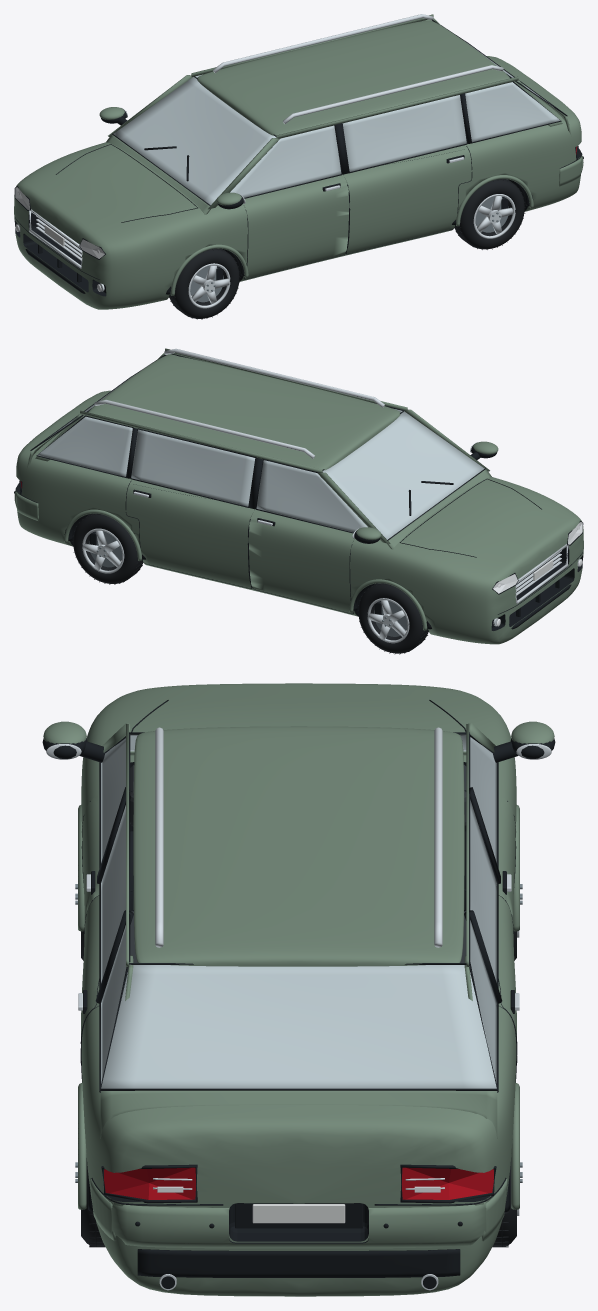
Rendered from SM_CC0_ModernWagon.fbx.
3 renders of one model, top to bottom at view 1: azimuth 30°, elevation 25°; view 2: azimuth 150°, elevation 25°; view 3: azimuth 270°, elevation 25°, orthographic. The views are drawn at different scales.
Visible parts, largest first — view 1: Aerodynamic mirror lower housing; view 2: Aerodynamic mirror lower housing; view 3: Aerodynamic mirror lower housing.
Part boxes in pixels (bbox=[...]): Aerodynamic mirror lower housing: bbox=[14, 14, 583, 319]; Aerodynamic mirror lower housing: bbox=[14, 348, 583, 654]; Aerodynamic mirror lower housing: bbox=[42, 683, 555, 1296].
Size of the model in its own units: 479 by 216 by 156.
